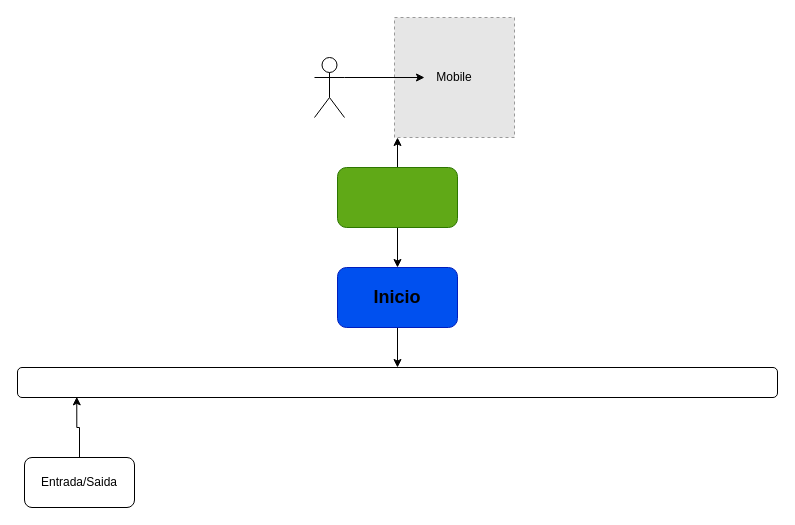
Image size: 795x525. Some labels were removed from this diagram. Grey dashed boxes stand in for pictures. Here are the shapes that lost their labels. From the top down, the centre of each, then its label:
At (329,87): "Responsável".
At (397,197): "Login".
